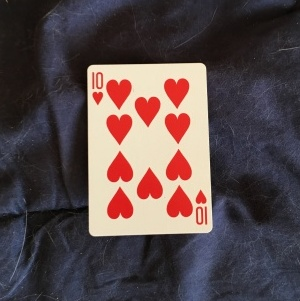card: (83, 62, 216, 239)
